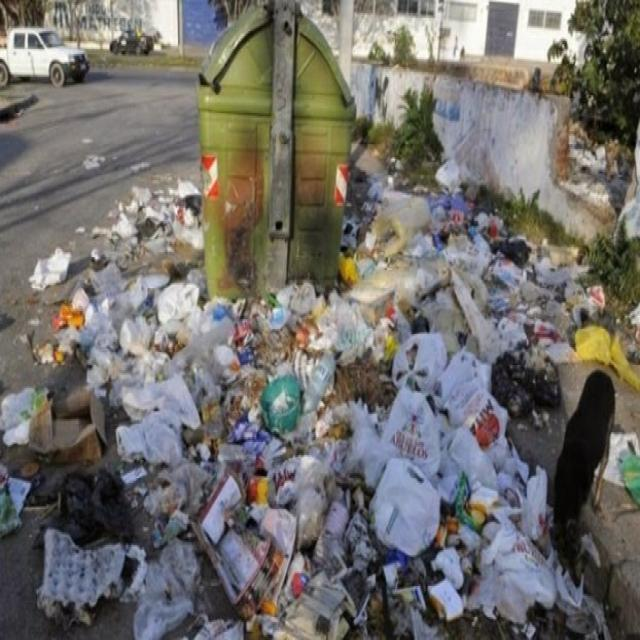garbage: (46, 256, 544, 626), (351, 164, 639, 364), (94, 144, 194, 342), (0, 309, 48, 638)
